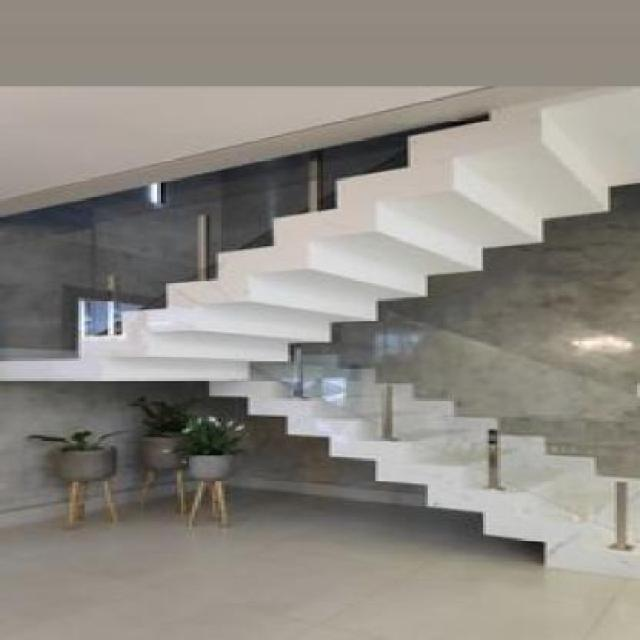stair: (190, 310, 638, 598)
